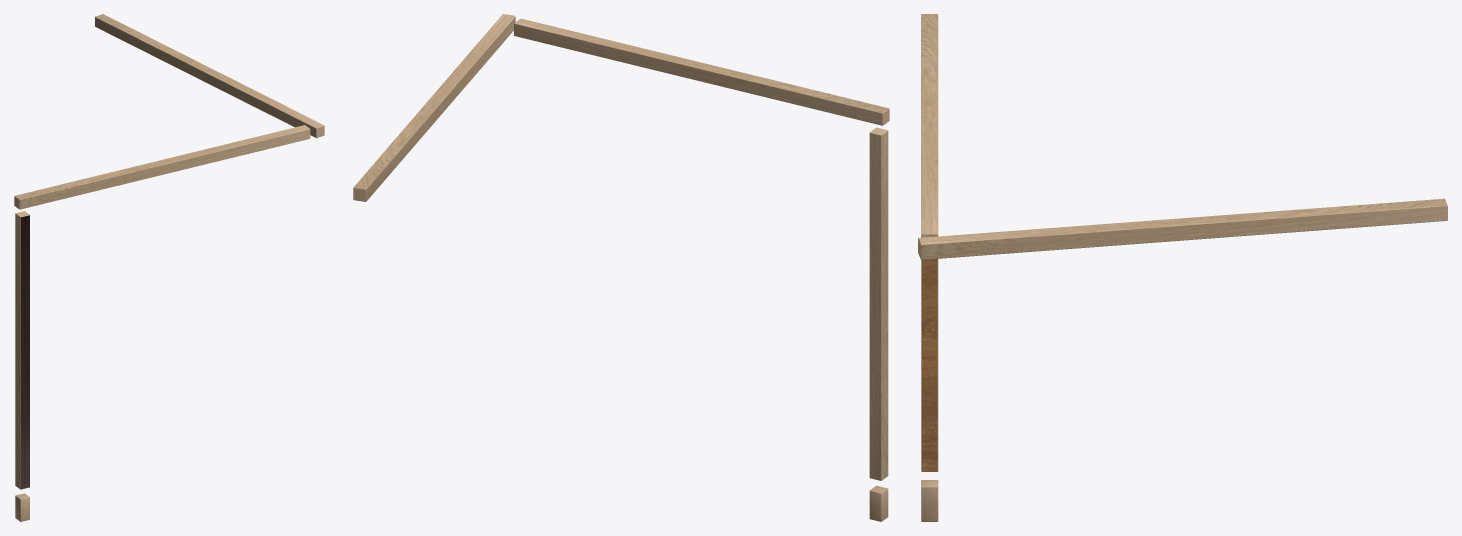
File: frame.glb
3 views of the same model, side by side, from view 1: azimuth 30°, elevation 25°; view 2: azimuth 150°, elevation 25°; view 3: azimuth 270°, elevation 25° (orthographic). The views are drawn at different scales.
Visible parts, largest first — view 1: Frame; view 2: Frame; view 3: Frame.
Boxes of the visible parts, x1,y1,x2,y2 form: Frame: (14, 14, 324, 521); Frame: (353, 14, 889, 521); Frame: (918, 14, 1447, 521).
Bounding box in the file's own units: 3.6 × 3.64 × 3.49.
3 materials, 3 textured.
